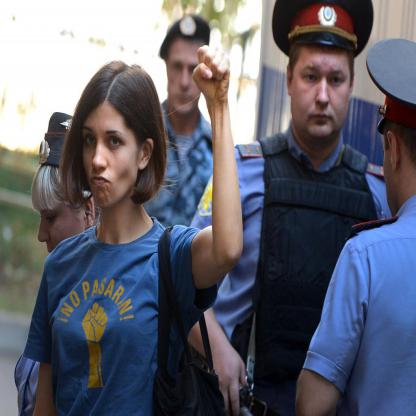face: (78, 110, 143, 208), (293, 47, 352, 138), (36, 182, 85, 271), (167, 55, 201, 113)
